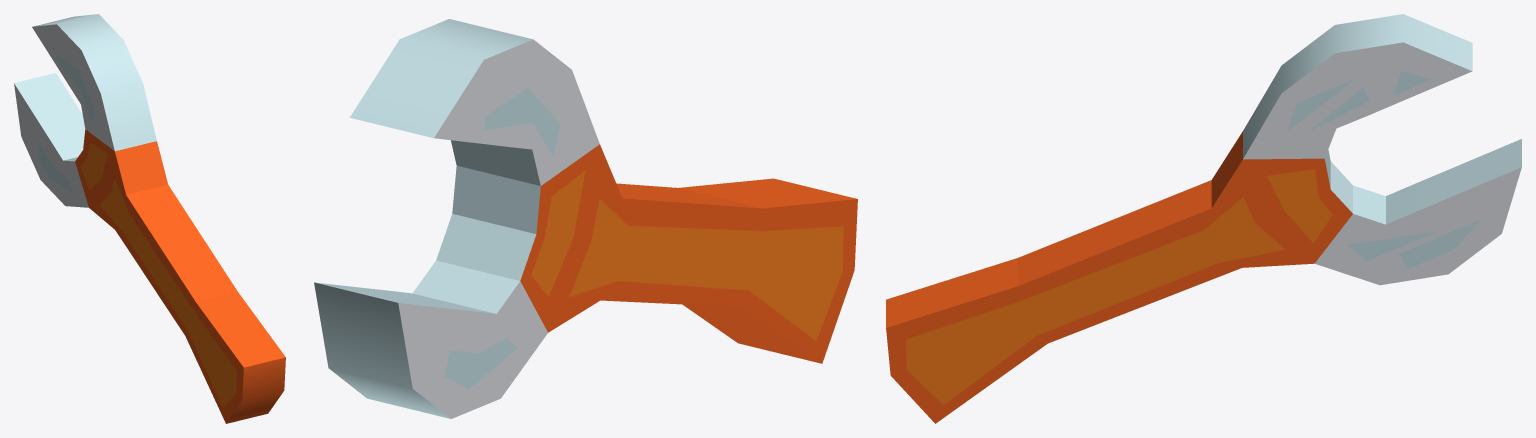
Rendered from ITSW_LlaveInglesa.FBX.
3 renders of one model, left to right at view 1: azimuth 30°, elevation 25°; view 2: azimuth 150°, elevation 25°; view 3: azimuth 270°, elevation 25°, orthographic. The views are drawn at different scales.
Visible parts, largest first — view 1: ITSW_LlaveInglesa; view 2: ITSW_LlaveInglesa; view 3: ITSW_LlaveInglesa.
Part boxes in pixels (x1,y1,x2,y2): ITSW_LlaveInglesa: (14,14,285,423); ITSW_LlaveInglesa: (314,19,857,418); ITSW_LlaveInglesa: (886,14,1521,423).
Size of the model in its own units: 0.1 by 0.6259 by 0.9454.
